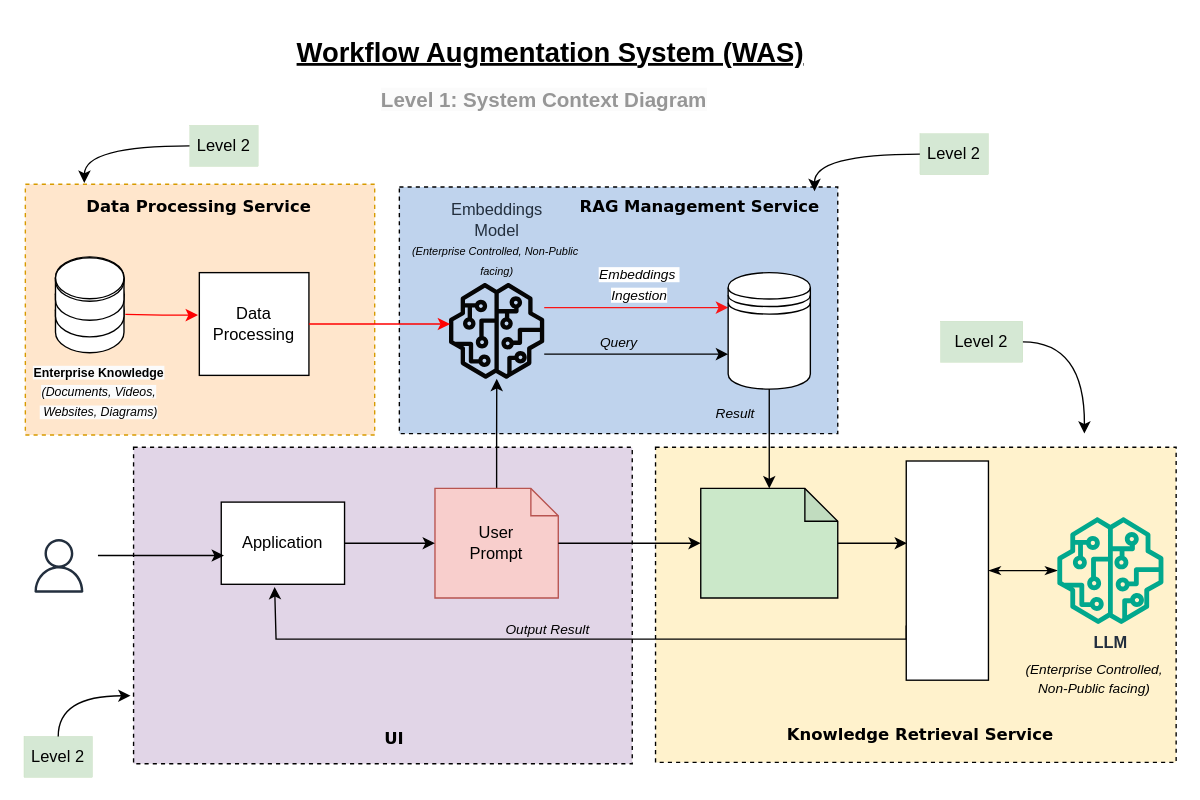
The diagram is 1200 pixels wide and 800 high, and some of its shapes have lost their labels. The centre of each missing label's shape, as x and y in pixels:
AI Agents: (946,570)
Augumented Prompt: (768,542)
User: (58,565)
Vector DB: (768,330)
